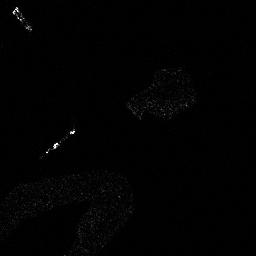ship: (11, 6, 33, 31)
